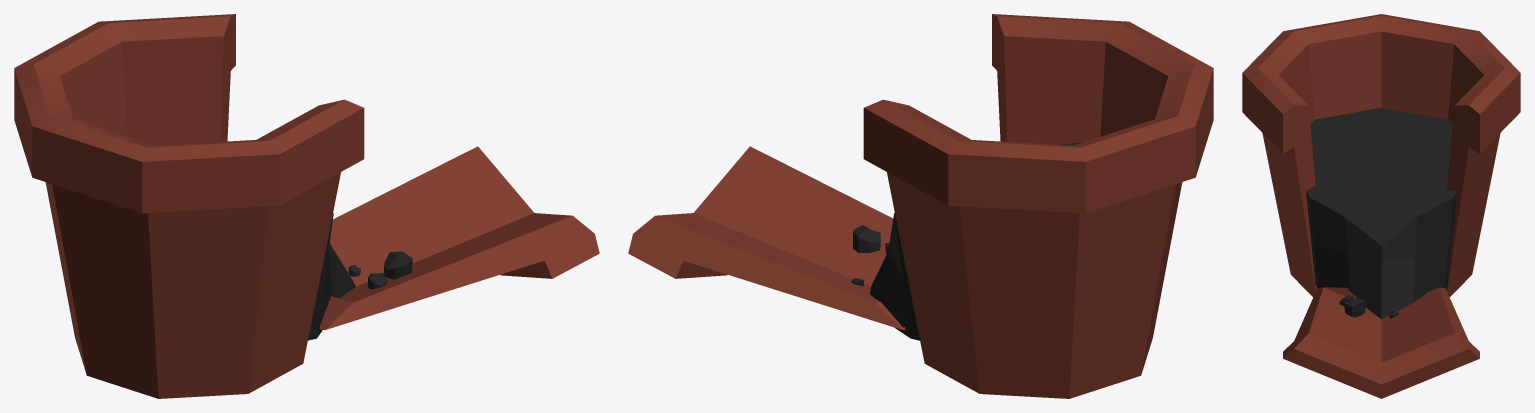
Rendered from PlantPot-3.fbx.
The picture shows the model from 3 angles, left to right: view 1: azimuth 30°, elevation 25°; view 2: azimuth 150°, elevation 25°; view 3: azimuth 270°, elevation 25°; orthographic projection. The views are drawn at different scales.
Parts seen in each view (by area): view 1: PlantPot.001, PlantPot.002, Cylinder.002, DirtSmall; view 2: PlantPot.001, PlantPot.002, Cylinder.002, DirtSmall; view 3: PlantPot.001, Cylinder.002, PlantPot.002, DirtSmall.
Boxes of the visible parts, x1,y1,x2,y2 form: PlantPot.001: [14, 14, 364, 398]; PlantPot.002: [320, 146, 599, 329]; Cylinder.002: [308, 213, 356, 340]; DirtSmall: [384, 251, 412, 279]; PlantPot.001: [863, 14, 1213, 398]; PlantPot.002: [628, 146, 905, 329]; Cylinder.002: [870, 142, 1082, 340]; DirtSmall: [853, 225, 880, 252]; PlantPot.001: [1242, 14, 1520, 296]; Cylinder.002: [1306, 108, 1456, 319]; PlantPot.002: [1283, 287, 1479, 398]; DirtSmall: [1344, 298, 1365, 317].
Size of the model in its own units: 576 by 289 by 350.
